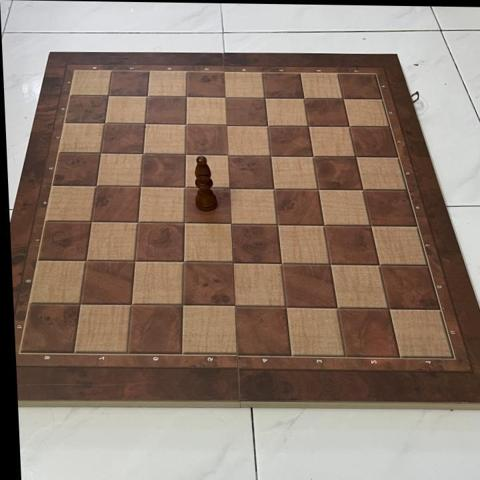xcorner: (295, 89, 313, 108), (258, 117, 277, 135), (176, 178, 194, 197), (361, 216, 380, 234), (99, 87, 117, 105), (138, 88, 156, 106), (177, 88, 195, 106), (217, 89, 235, 107), (256, 89, 274, 107), (334, 90, 352, 108), (96, 115, 114, 133), (136, 115, 154, 133), (177, 116, 195, 134), (218, 116, 236, 134), (299, 117, 317, 135), (340, 118, 358, 136), (92, 145, 110, 163), (134, 145, 152, 163), (177, 146, 195, 164), (219, 146, 237, 164), (262, 147, 280, 165), (304, 147, 322, 165), (346, 148, 364, 166), (87, 177, 105, 195), (132, 178, 150, 196), (221, 179, 239, 197), (265, 180, 283, 198), (309, 180, 327, 198), (354, 181, 372, 199), (83, 213, 101, 231), (129, 214, 147, 232), (176, 214, 194, 232), (222, 215, 240, 233), (269, 215, 287, 233), (315, 216, 333, 234), (78, 253, 96, 271), (126, 253, 144, 271), (175, 254, 193, 272), (224, 254, 242, 272), (273, 255, 291, 273), (321, 255, 339, 273), (370, 256, 388, 274), (72, 296, 90, 314), (123, 297, 141, 315), (175, 297, 193, 315), (226, 298, 244, 316), (277, 298, 295, 316), (328, 299, 346, 317), (380, 299, 398, 317)
